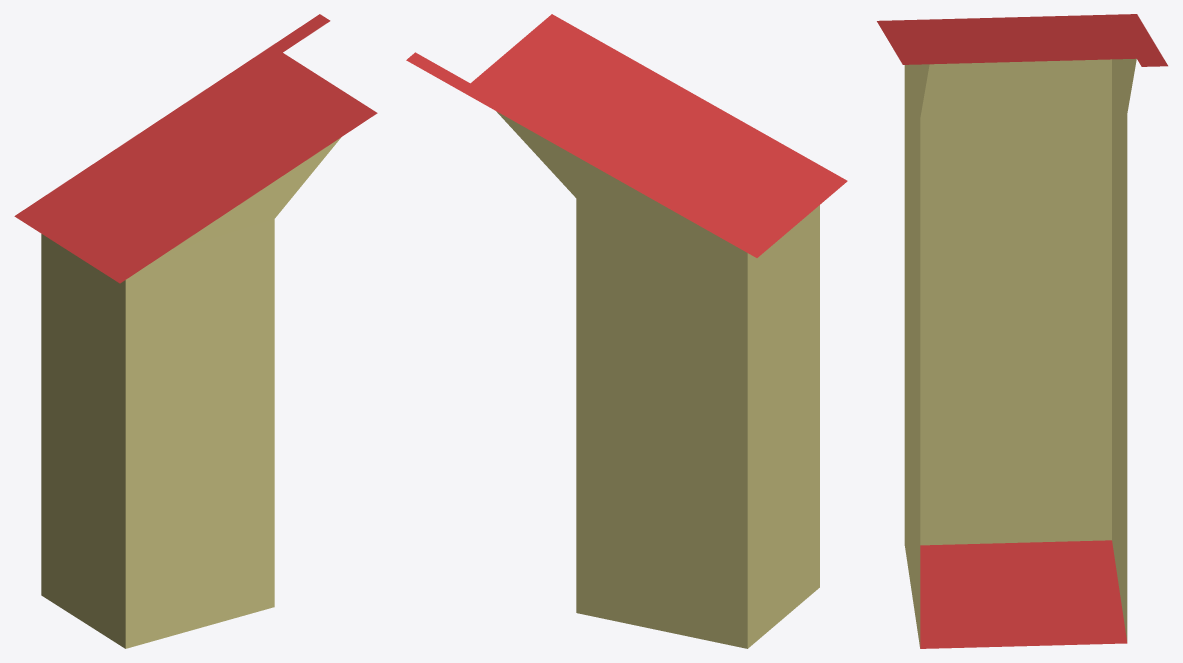
The picture shows the model from 3 angles, left to right: view 1: azimuth 30°, elevation 25°; view 2: azimuth 150°, elevation 25°; view 3: azimuth 270°, elevation 25°; orthographic projection. The views are drawn at different scales.
Size of the model in its own units: 9.38 by 5.46 by 13.89.
